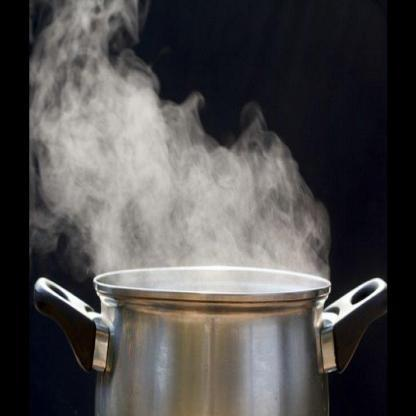smoke: (146, 94, 324, 271), (27, 12, 149, 266)
